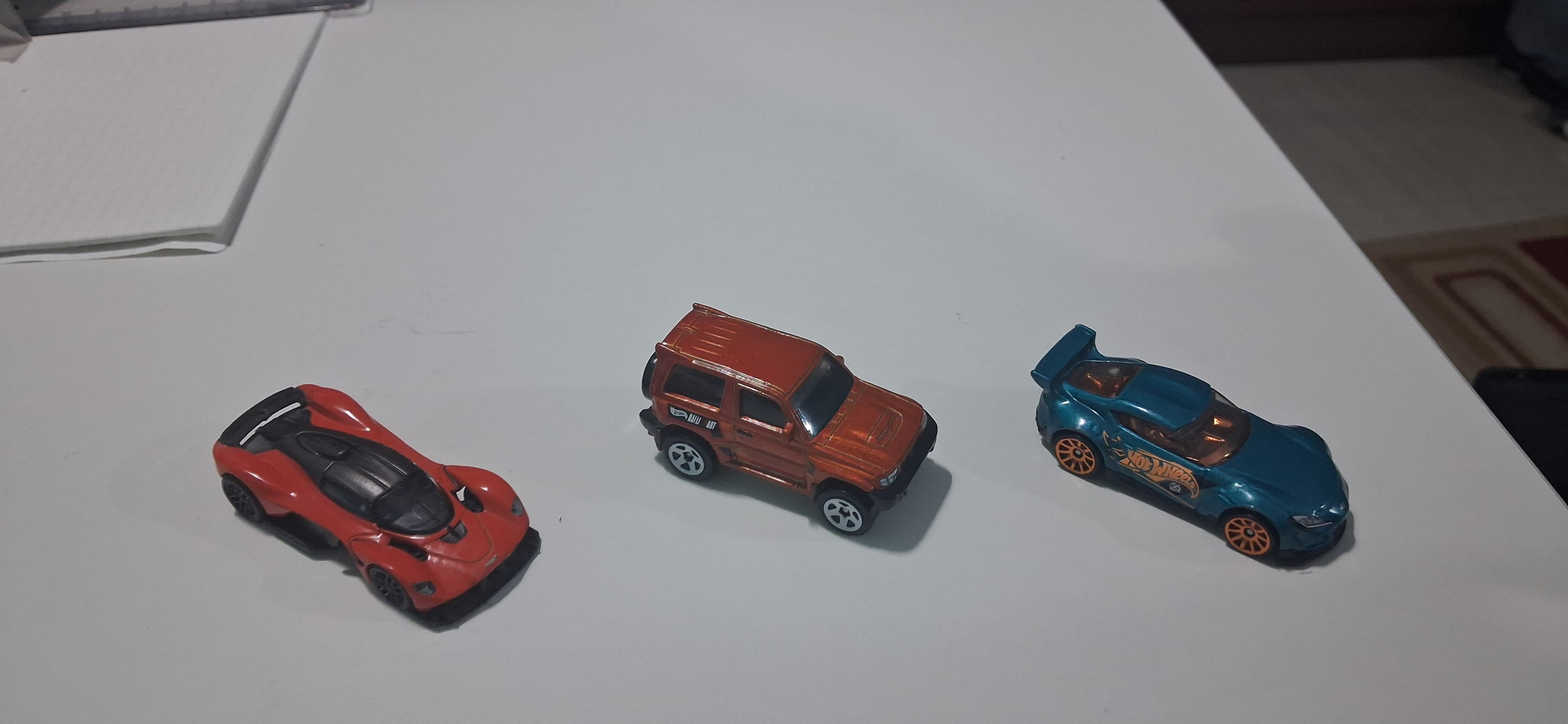Aston_Martin_Valkyrie: (172, 346, 568, 651)
Mitsubishi_Pajero_Evolution: (613, 266, 971, 571)
Toyota_GR_Supra: (1019, 274, 1390, 610)
